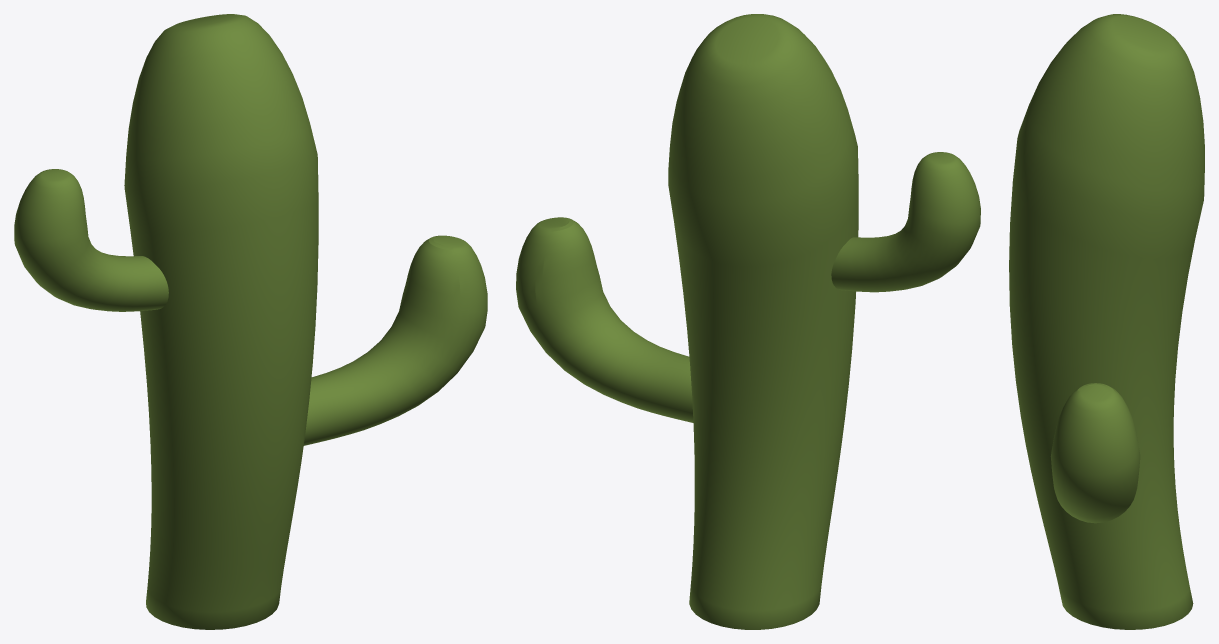
Rendered from Cactus.fbx.
3 views of the same model, side by side, from view 1: azimuth 30°, elevation 25°; view 2: azimuth 150°, elevation 25°; view 3: azimuth 270°, elevation 25° (orthographic).
Parts seen in each view (by area): view 1: Cylinder, Cylinder.001, Cylinder.002; view 2: Cylinder, Cylinder.001, Cylinder.002; view 3: Cylinder, Cylinder.001.
Part boxes in pixels (x1,y1,x2,y2): Cylinder: (124,14,318,629); Cylinder.001: (303,235,487,445); Cylinder.002: (14,169,168,311); Cylinder: (668,14,858,629); Cylinder.001: (516,217,693,422); Cylinder.002: (831,152,980,292); Cylinder: (1009,14,1204,629); Cylinder.001: (1050,383,1140,523).
Size of the model in its own units: 183 by 599 by 493.
